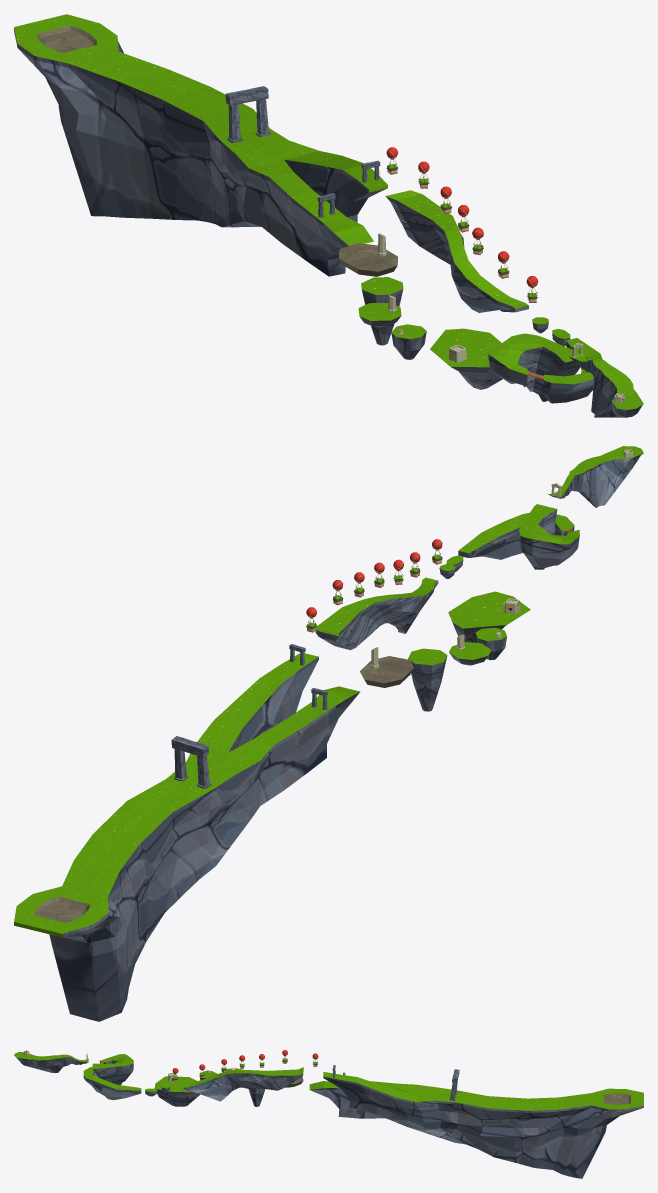
The model's file is Nivel 2.fbx.
The picture shows the model from 3 angles, top to bottom: view 1: azimuth 30°, elevation 25°; view 2: azimuth 150°, elevation 25°; view 3: azimuth 270°, elevation 25°; orthographic projection. The views are drawn at different scales.
Visible parts, largest first — view 1: Cube.011, Cube.005, Cube.002, Cube.006, Cube, Cube.010, Cube.014, Cube.008, Cube.007, Cube.009; view 2: Cube.011, Cube.002, Cube.005, Cube, Cube.006, Cube.008, Cube.014, Cube.010; view 3: Cube.011, Cube.005, Cube.002, Cube.006, Cube, Cube.008.
Part boxes in pixels (x1=…): Cube.011: x1=14, y1=14, x2=387, y2=276; Cube.005: x1=385, y1=190, x2=528, y2=312; Cube.002: x1=488, y1=333, x2=602, y2=403; Cube.006: x1=430, y1=328, x2=502, y2=389; Cube: x1=569, y1=352, x2=643, y2=417; Cube.010: x1=339, y1=243, x2=397, y2=276; Cube.014: x1=225, y1=86, x2=270, y2=142; Cube.008: x1=361, y1=277, x2=403, y2=345; Cube.007: x1=391, y1=324, x2=426, y2=359; Cube.009: x1=358, y1=302, x2=401, y2=327; Cube.011: x1=14, y1=653, x2=360, y2=1021; Cube.002: x1=458, y1=504, x2=579, y2=569; Cube.005: x1=315, y1=577, x2=438, y2=649; Cube: x1=548, y1=446, x2=643, y2=507; Cube.006: x1=448, y1=591, x2=530, y2=642; Cube.008: x1=408, y1=648, x2=447, y2=711; Cube.014: x1=171, y1=736, x2=211, y2=788; Cube.010: x1=360, y1=656, x2=413, y2=687; Cube.011: x1=309, y1=1072, x2=643, y2=1178; Cube.005: x1=183, y1=1067, x2=303, y2=1101; Cube.002: x1=83, y1=1054, x2=141, y2=1100; Cube.006: x1=154, y1=1076, x2=199, y2=1106; Cube: x1=14, y1=1052, x2=88, y2=1072; Cube.008: x1=248, y1=1088, x2=265, y2=1106.
Bounding box in the file's own units: 7295 × 12441 × 54880.
21 materials, 14 textured.
